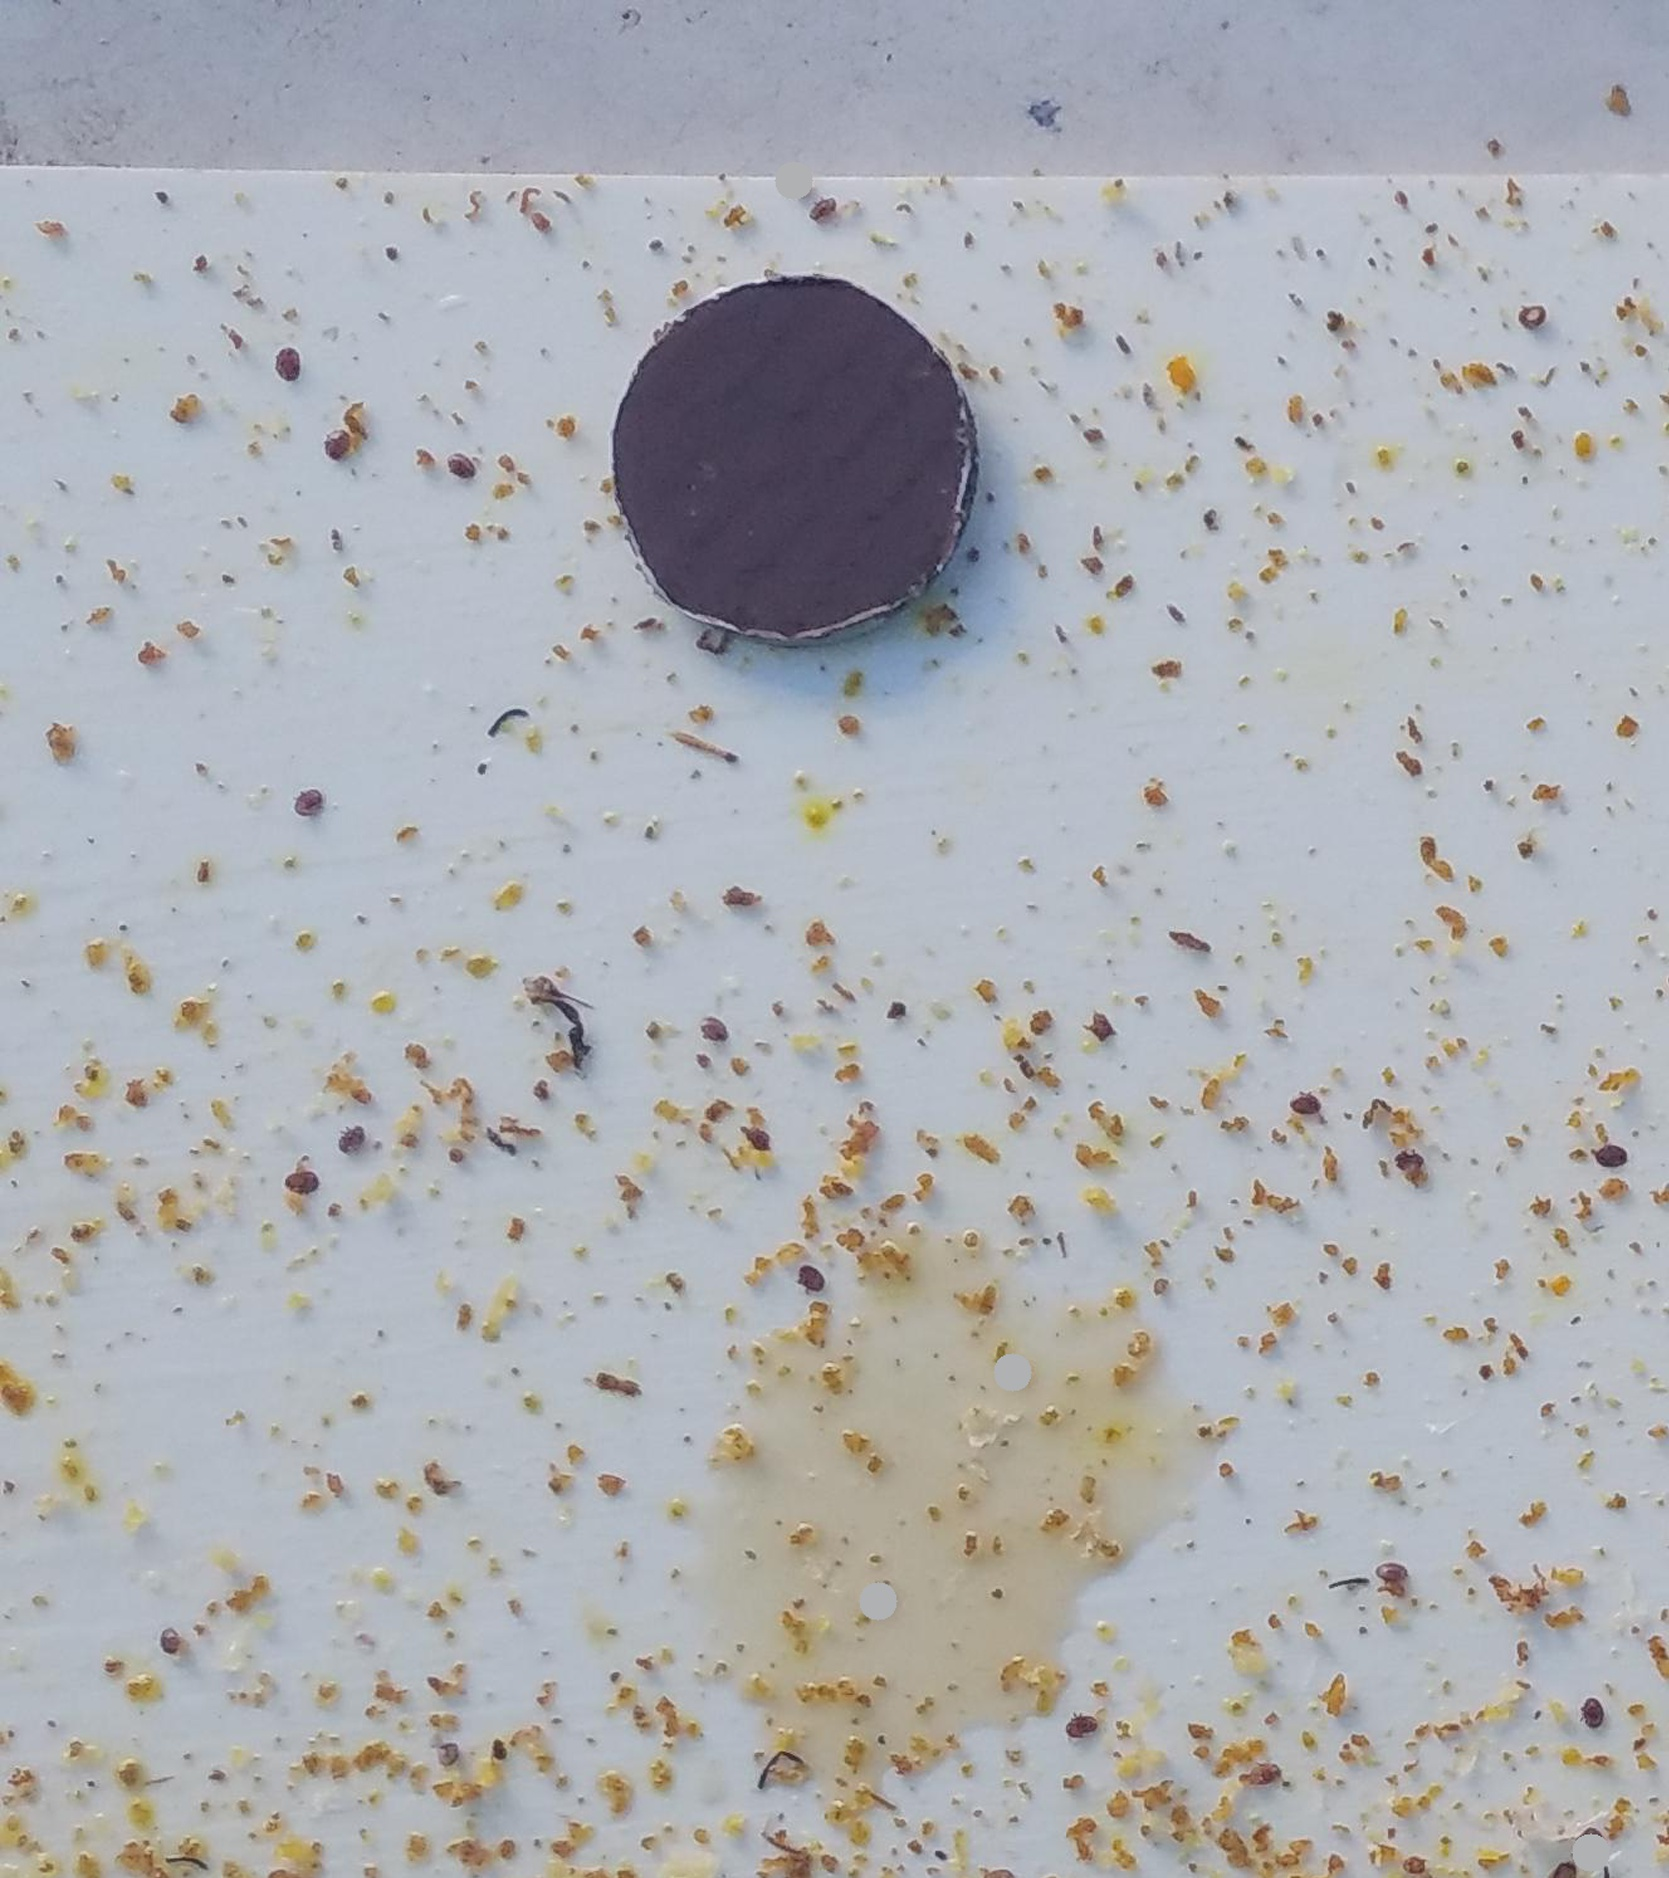Varroa: (804, 188, 846, 230), (1245, 1751, 1287, 1793), (290, 794, 329, 836), (1592, 1147, 1630, 1187), (274, 361, 311, 403), (337, 1129, 374, 1168), (148, 1620, 185, 1657), (694, 1020, 730, 1058), (290, 1152, 324, 1192), (293, 1177, 329, 1214), (269, 338, 303, 377), (327, 422, 361, 461), (1066, 1704, 1102, 1739), (1577, 1690, 1613, 1723), (1519, 300, 1553, 335), (1379, 1569, 1413, 1604), (794, 1258, 830, 1290), (1294, 1084, 1326, 1118), (449, 453, 482, 486), (1397, 1148, 1429, 1181)
